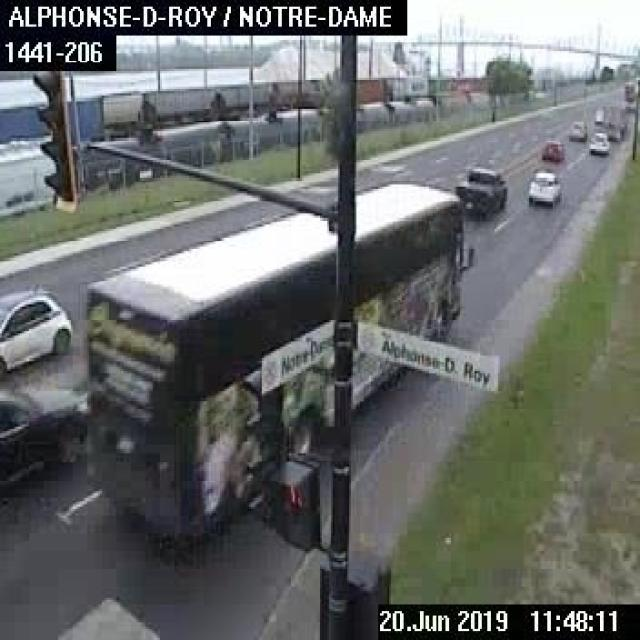bus: (86, 174, 477, 542)
vehicle: (0, 374, 89, 488), (0, 287, 71, 373), (454, 159, 508, 215), (524, 169, 562, 207), (587, 130, 609, 154), (541, 138, 563, 159), (567, 119, 585, 139)
